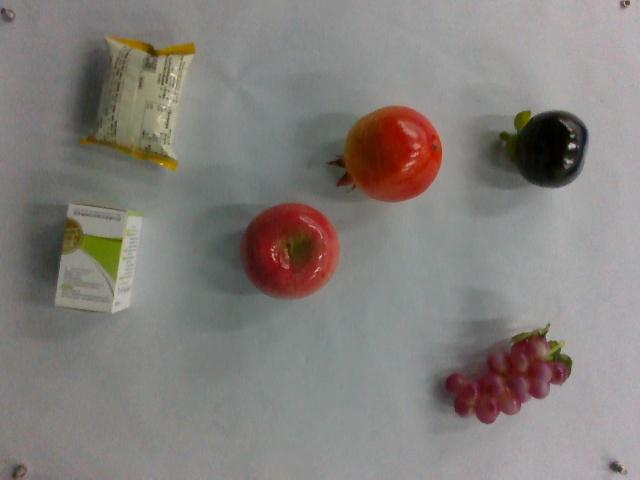apple: (240, 204, 340, 305)
carton: (50, 200, 148, 317)
dessert: (86, 34, 197, 169)
grape: (445, 325, 573, 429)
mangosteen: (498, 107, 588, 188)
pomegranate: (331, 102, 448, 203)
